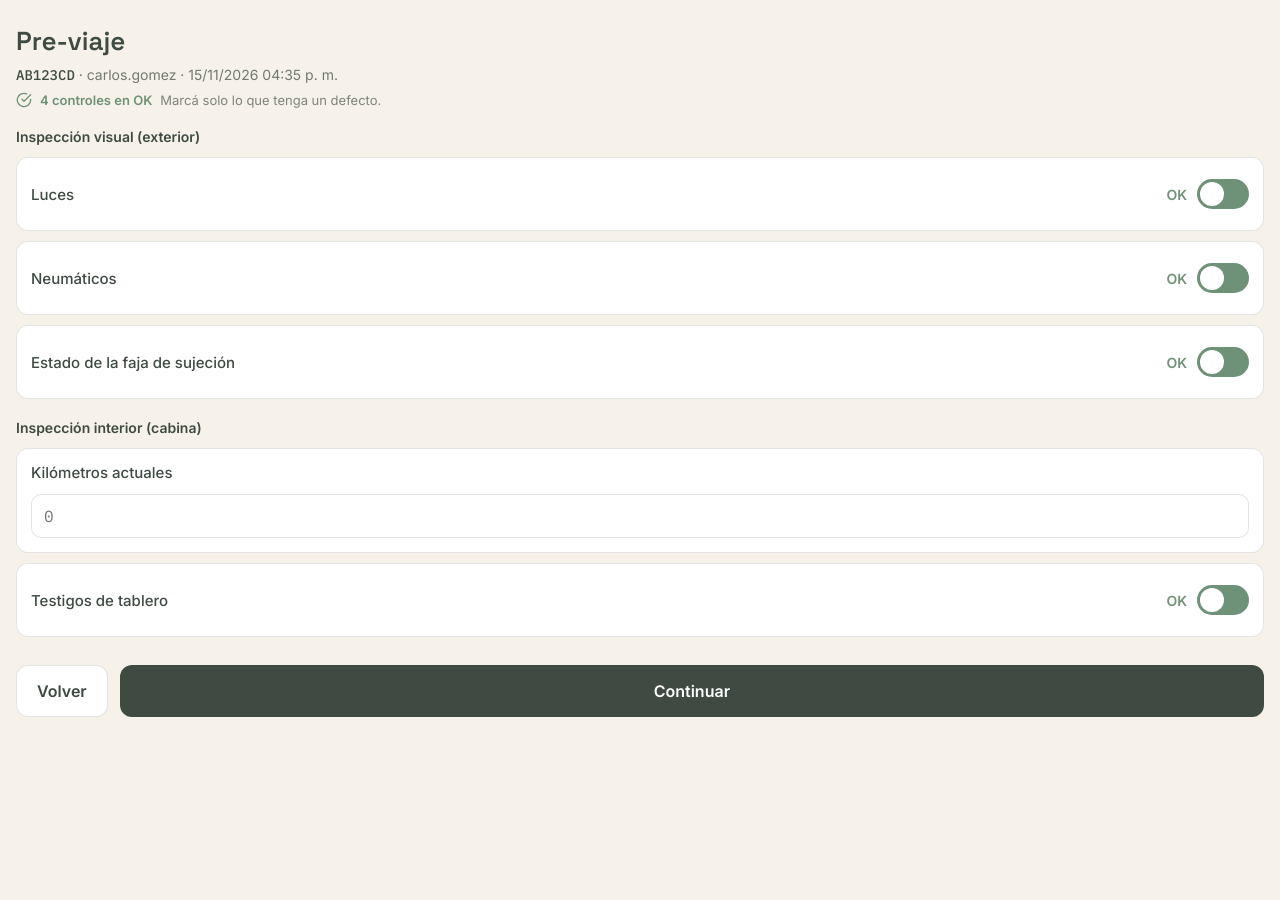
Scenario: InspectionFlow — pre-viaje › con un defecto bloqueante exige la foto, lo muestra en el resumen y avisa al enviar
Later steps or results of the test are not shown.
Expected: the heading "Pre-viaje" is shown, [16,24,126,58]
Click the switch named "Neumáticos: reportar defecto".
click(1208, 278)  # box [1166,256,1249,300]
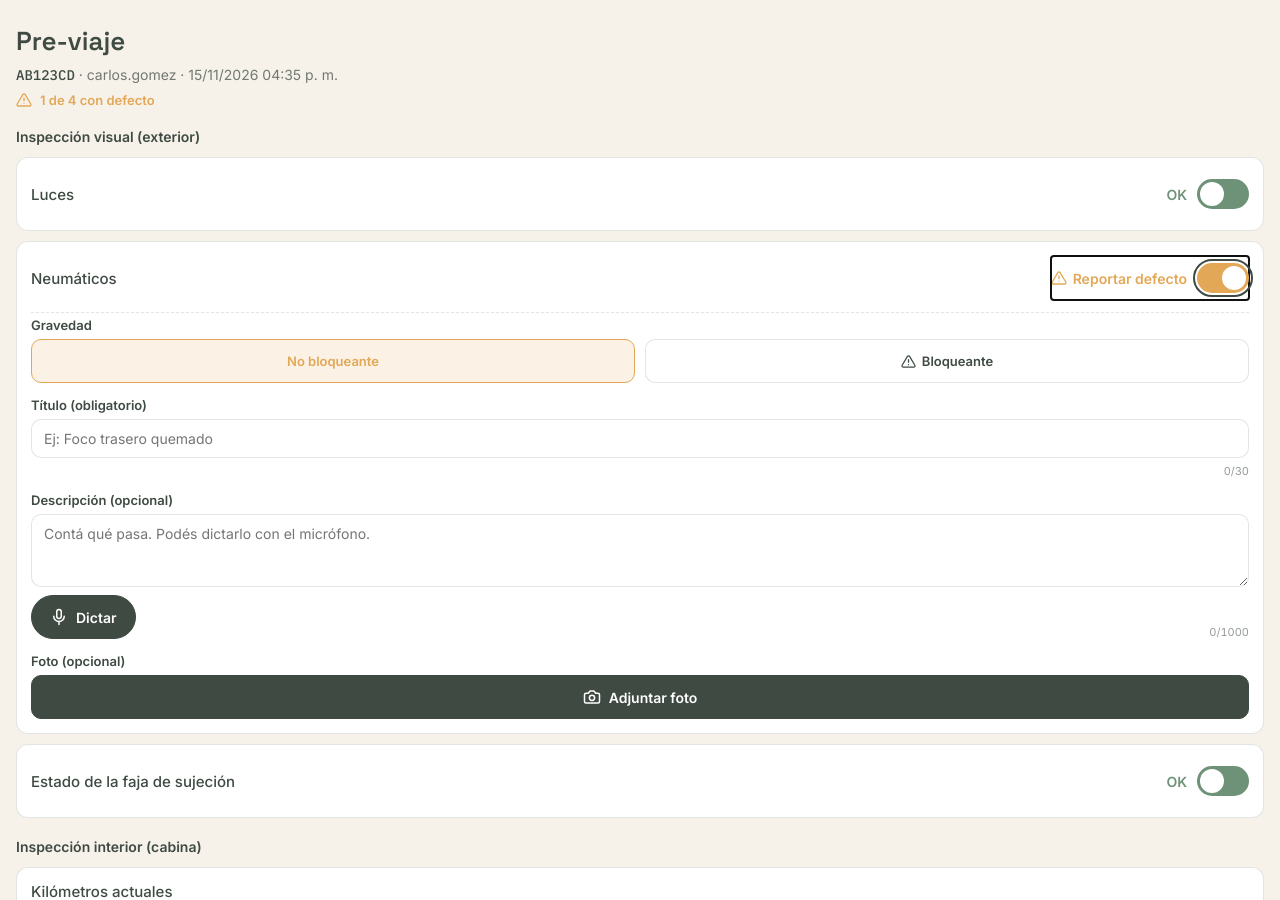
Click the button "Bloqueante".
click(947, 361)  # box [645,339,1249,383]
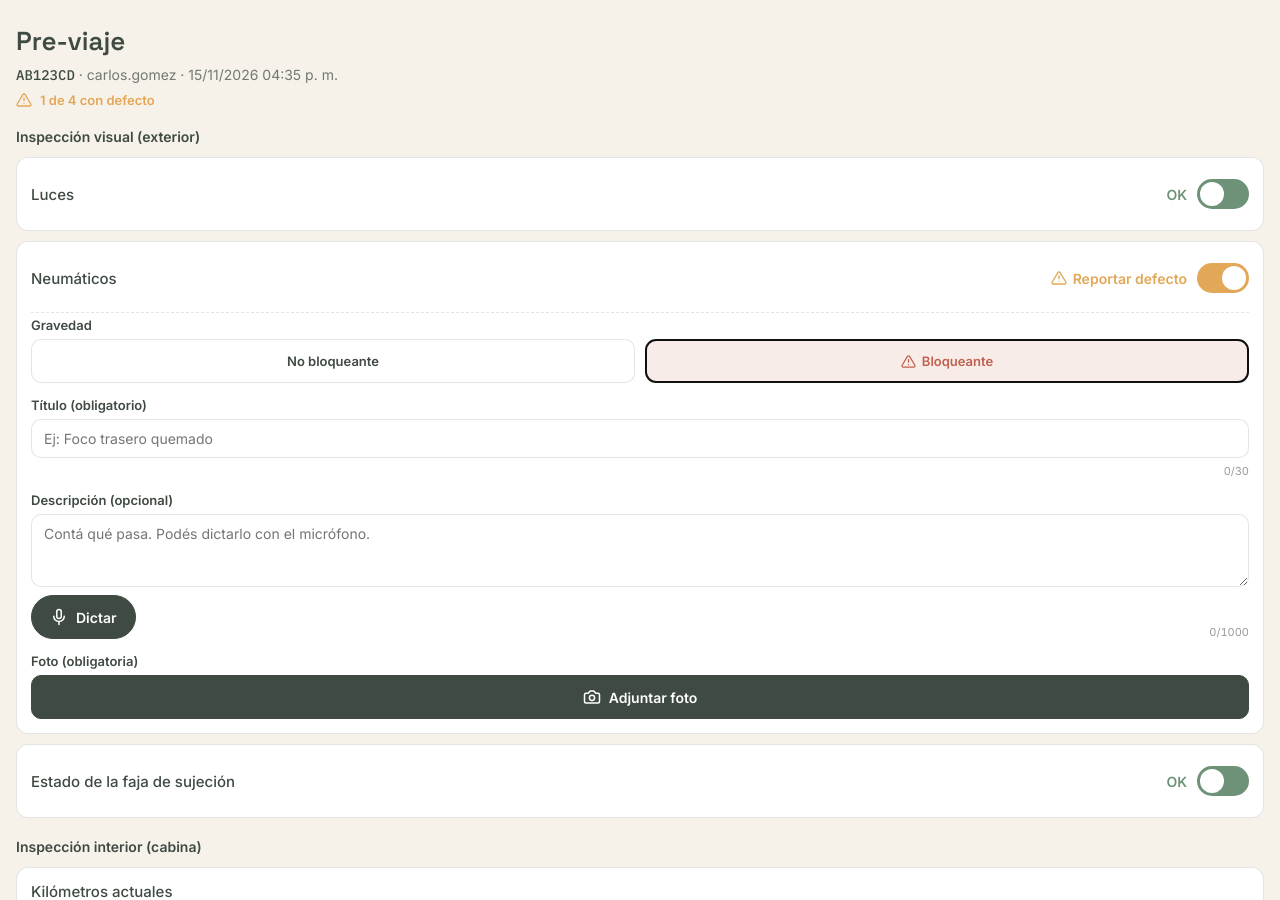
Type "Neumático pinchado" into the field labelled "Título (obligatorio)".
click(640, 438); type("Neumático pinchado")  # box [31,419,1249,458]
(page scrolled)
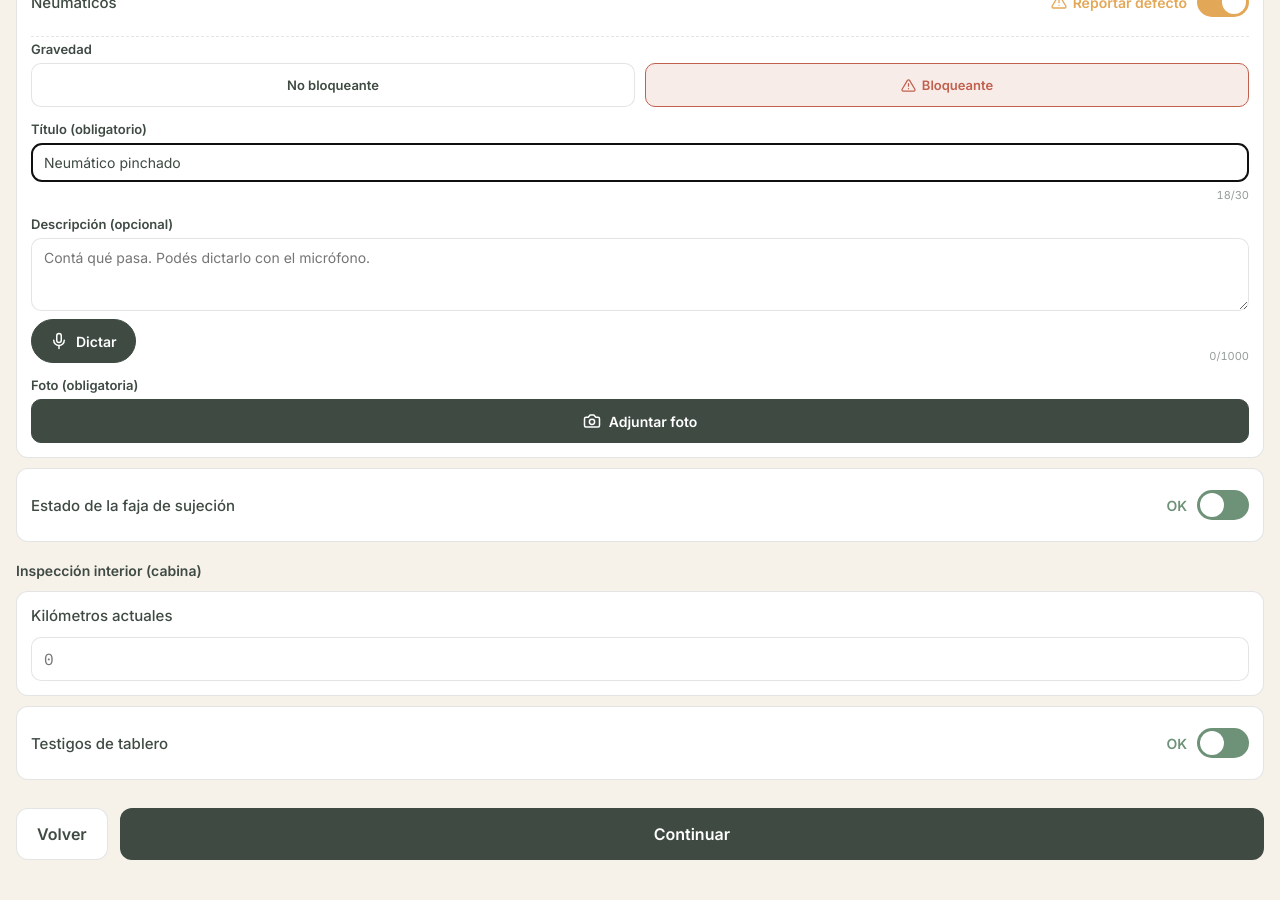
Type "84320" into the number field labelled "Kilómetros actuales".
click(640, 659); type("84320")  # box [31,637,1249,681]
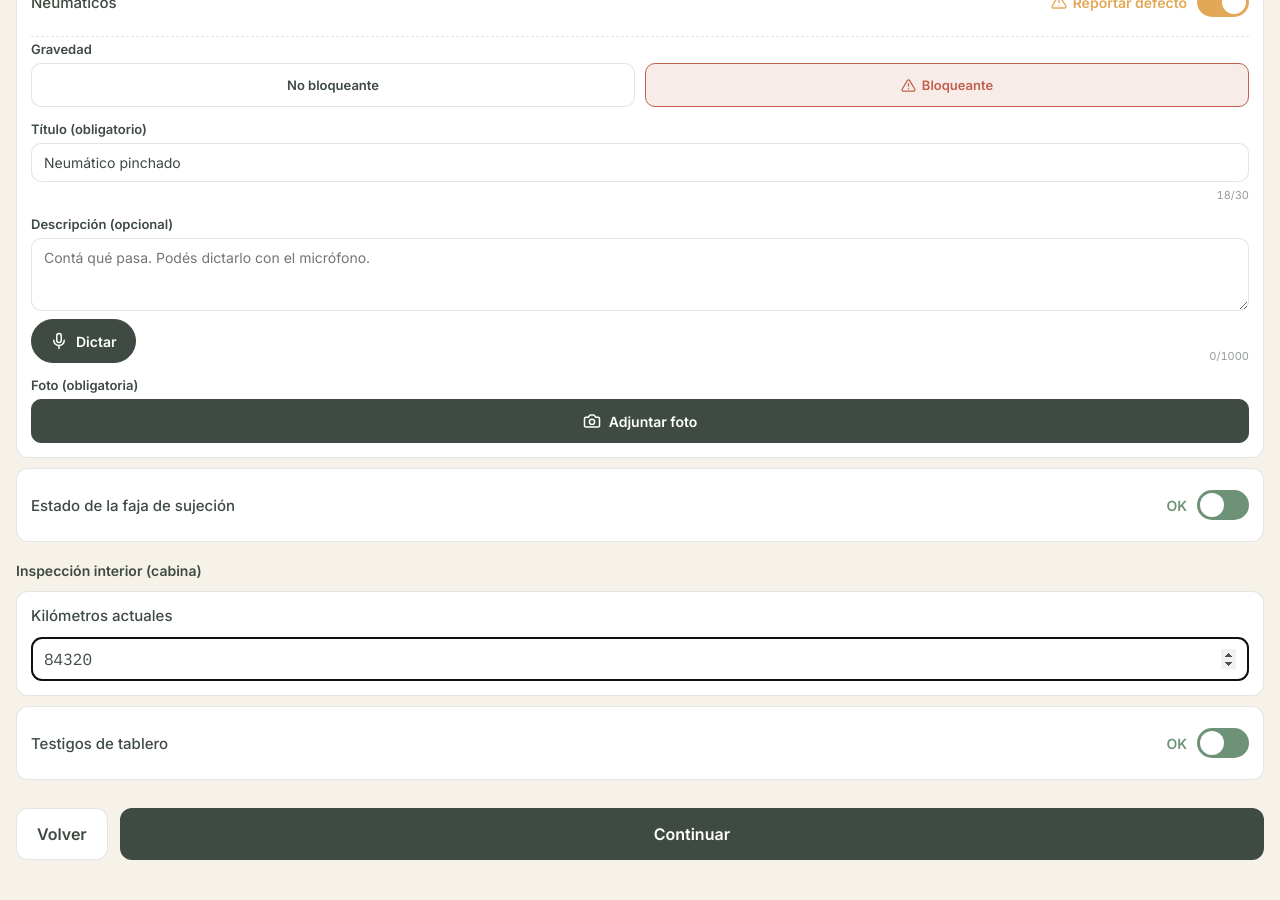
Click the button "Continuar".
click(692, 834)  # box [120,808,1264,860]
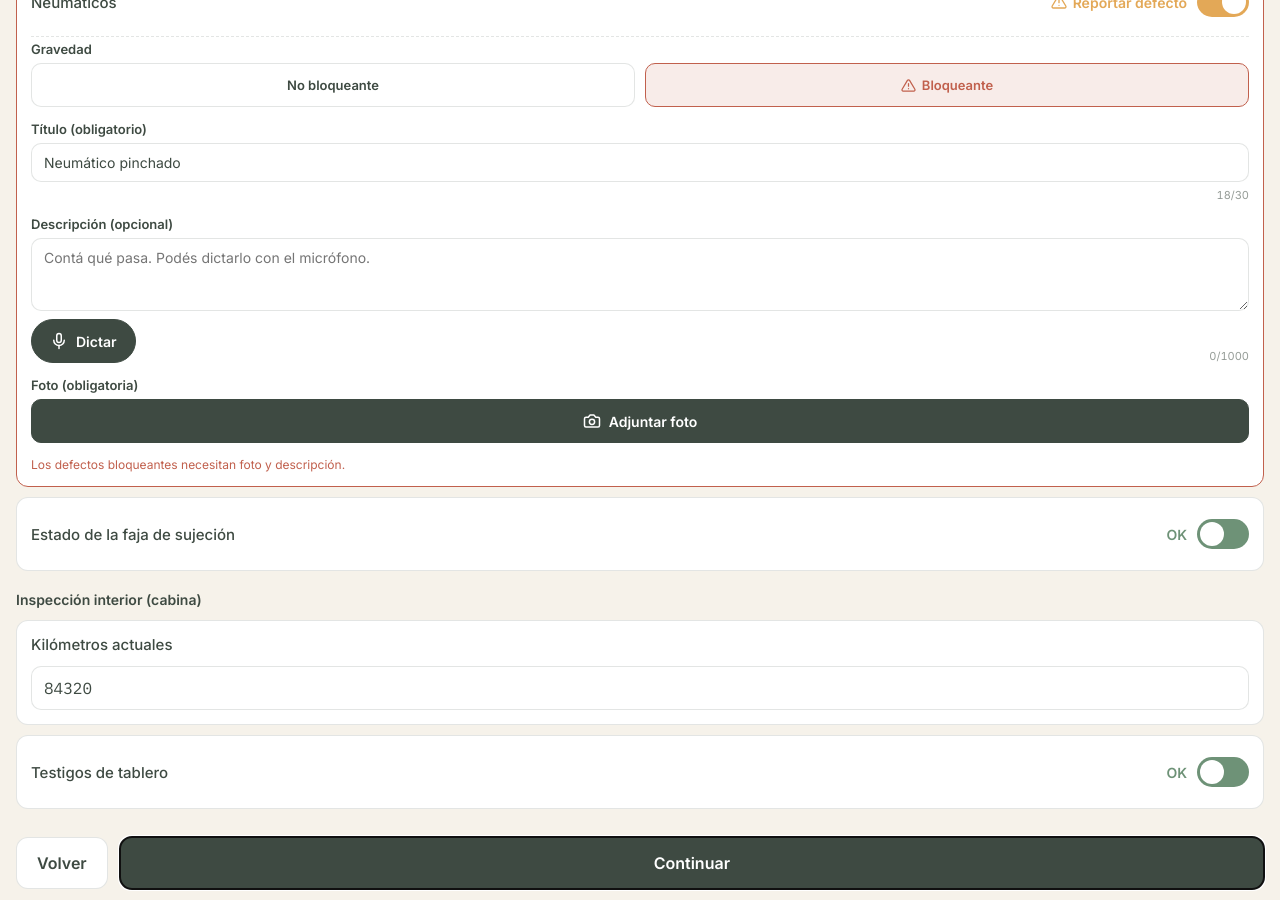
Now the text "Los defectos bloqueantes necesitan foto y descripción." is shown, box [31,457,345,472]
